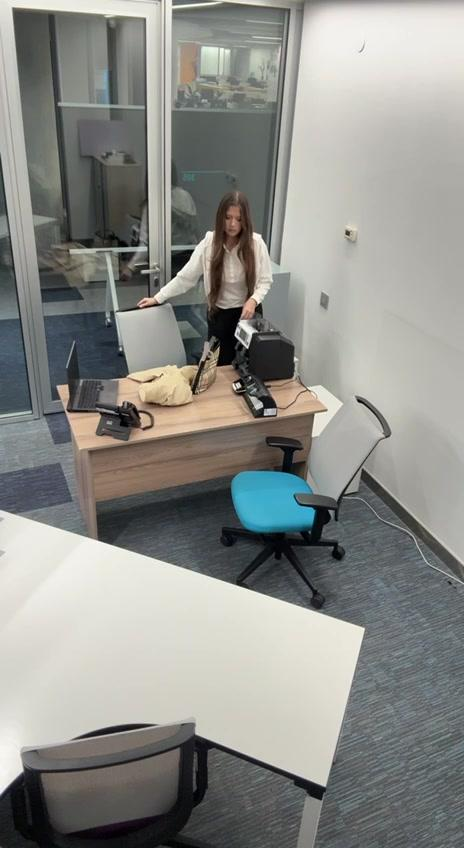bag: (193, 338, 220, 395)
counter: (234, 314, 295, 382)
jacket: (127, 368, 194, 403)
uv_lamp: (242, 377, 277, 418)
